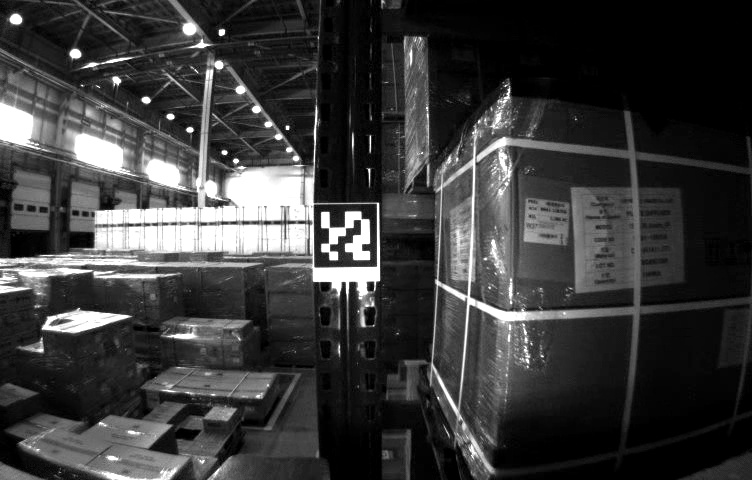True Barcode: (526, 197, 570, 249)
